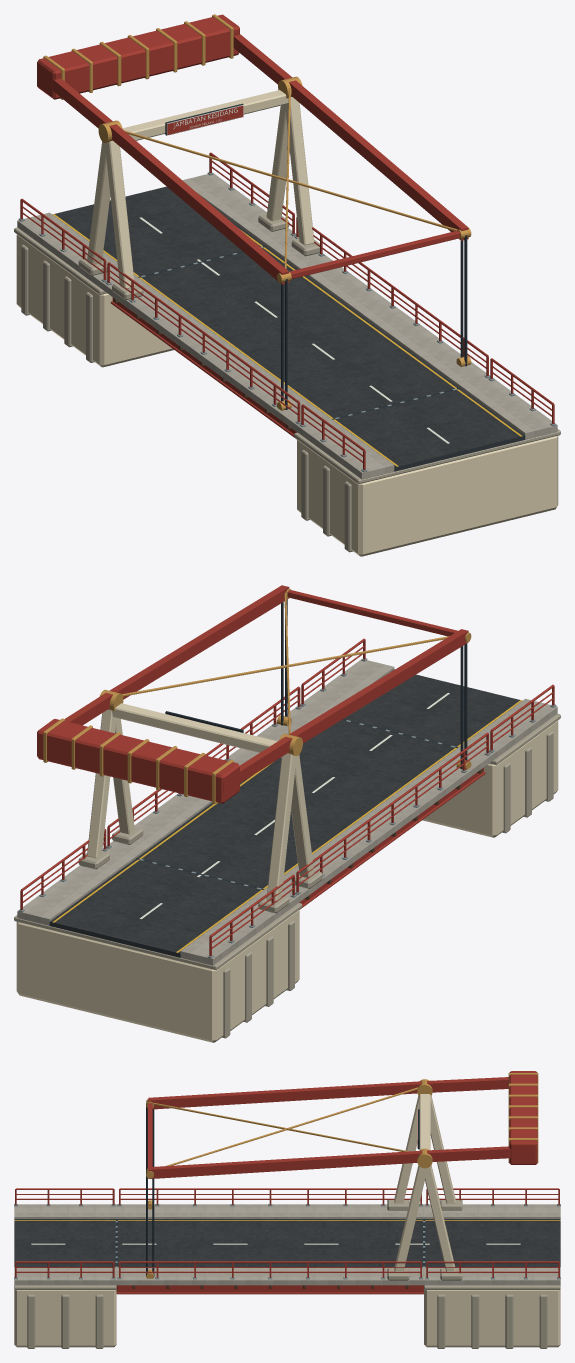
3 renders of one model, top to bottom at view 1: azimuth 30°, elevation 25°; view 2: azimuth 150°, elevation 25°; view 3: azimuth 270°, elevation 25°, orthographic. The views are drawn at different scales.
Parts seen in each view (by area): view 1: Running course, Masonry wharf seats, Walkway, Twin rocking beams, Counterweight casing, Raking portal legs, Longitudinal handrails, Wharf buttresses, Projecting coping, Railing stanchions, Forged lifting links, Portal tie (+8 smaller); view 2: Running course, Masonry wharf seats, Walkway, Counterweight casing, Twin rocking beams, Raking portal legs, Longitudinal handrails, Wharf buttresses, Portal tie, Projecting coping, Railing stanchions, Counterweight straps (+7 smaller); view 3: Running course, Walkway, Masonry wharf seats, Twin rocking beams, Longitudinal handrails, Raking portal legs, Wharf buttresses, Counterweight casing, Movable leaf girders, Overhead sway bracing, Railing stanchions, Projecting coping (+10 smaller).
Part boxes in pixels (x1=…): Running course: x1=52, y1=186, x2=525, y2=471; Masonry wharf seats: x1=16, y1=234, x2=558, y2=556; Walkway: x1=17, y1=173, x2=557, y2=479; Twin rocking beams: x1=53, y1=34, x2=468, y2=284; Counterweight casing: x1=37, y1=14, x2=239, y2=99; Raking portal legs: x1=87, y1=97, x2=314, y2=288; Longitudinal handrails: x1=20, y1=152, x2=553, y2=462; Wharf buttresses: x1=21, y1=244, x2=352, y2=552; Projecting coping: x1=14, y1=227, x2=560, y2=483; Railing stanchions: x1=20, y1=153, x2=554, y2=470; Forged lifting links: x1=281, y1=235, x2=467, y2=409; Portal tie: x1=123, y1=90, x2=288, y2=140; Running course: x1=49, y1=669, x2=521, y2=957; Masonry wharf seats: x1=16, y1=720, x2=558, y2=1042; Walkway: x1=17, y1=659, x2=557, y2=965; Counterweight casing: x1=37, y1=719, x2=239, y2=803; Twin rocking beams: x1=37, y1=585, x2=468, y2=793; Raking portal legs: x1=87, y1=709, x2=314, y2=901; Longitudinal handrails: x1=21, y1=638, x2=553, y2=948; Wharf buttresses: x1=222, y1=731, x2=553, y2=1038; Portal tie: x1=112, y1=703, x2=281, y2=757; Projecting coping: x1=14, y1=713, x2=560, y2=970; Railing stanchions: x1=20, y1=640, x2=554, y2=956; Counterweight straps: x1=43, y1=718, x2=233, y2=803; Running course: x1=14, y1=1219, x2=560, y2=1267; Walkway: x1=14, y1=1204, x2=560, y2=1285; Masonry wharf seats: x1=14, y1=1289, x2=560, y2=1347; Twin rocking beams: x1=148, y1=1077, x2=536, y2=1178; Longitudinal handrails: x1=16, y1=1188, x2=558, y2=1272; Raking portal legs: x1=394, y1=1096, x2=455, y2=1271; Wharf buttresses: x1=27, y1=1294, x2=547, y2=1348; Counterweight casing: x1=509, y1=1071, x2=537, y2=1164; Movable leaf girders: x1=116, y1=1285, x2=423, y2=1292; Overhead sway bracing: x1=153, y1=1087, x2=418, y2=1166; Railing stanchions: x1=15, y1=1189, x2=559, y2=1277; Projecting coping: x1=14, y1=1285, x2=560, y2=1289.
Bounding box in the file's own units: 11 × 13.15 × 32.03.
Materials: 13 (2 with a texture image).
